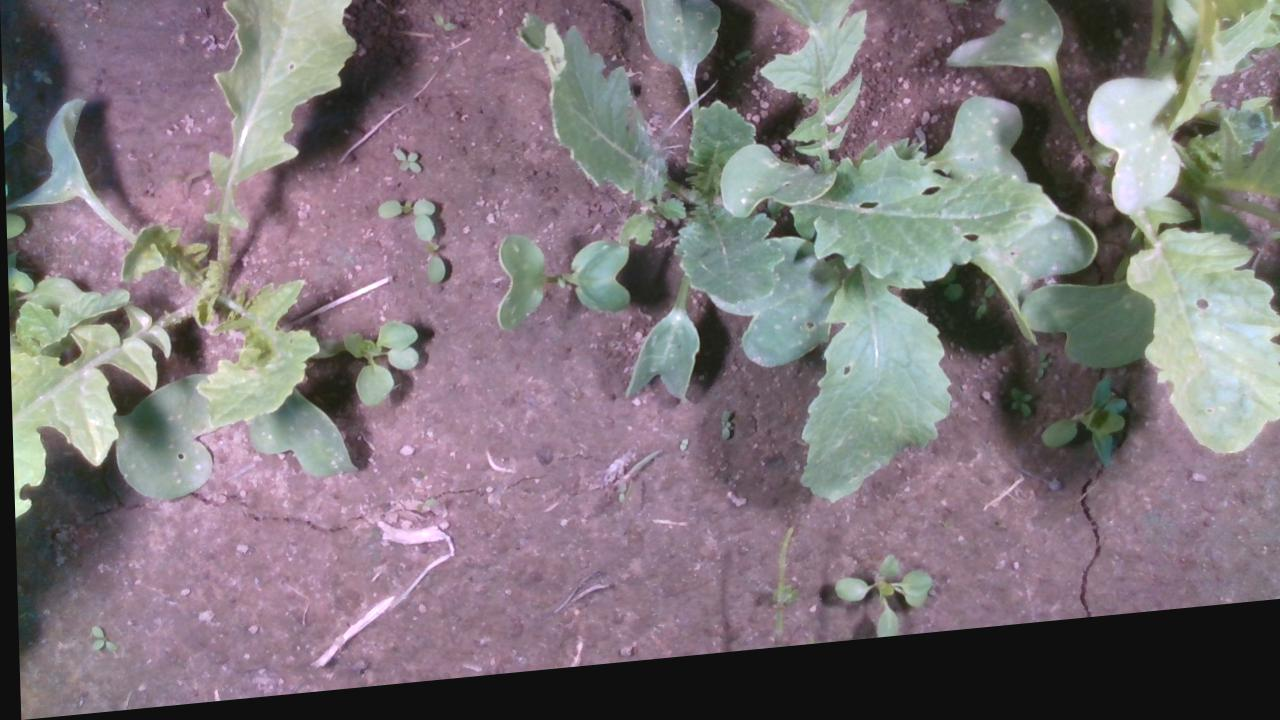weed: (387, 151, 427, 186), (431, 18, 457, 41)
